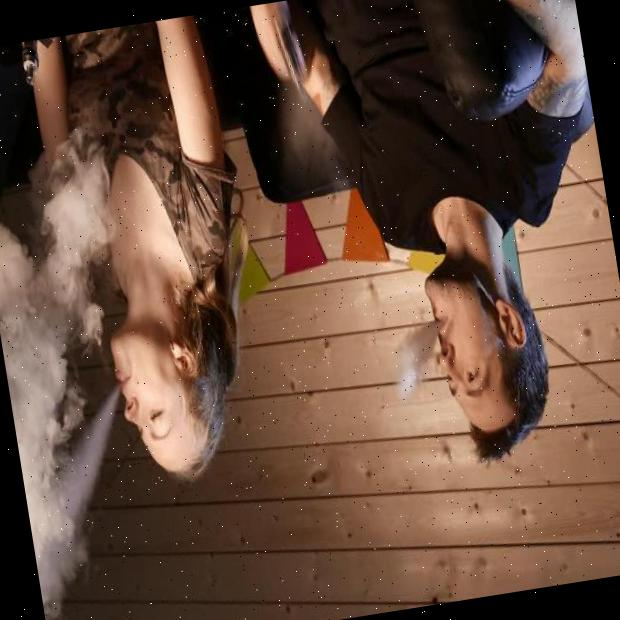smoke: (0, 150, 170, 620), (380, 300, 452, 406)
